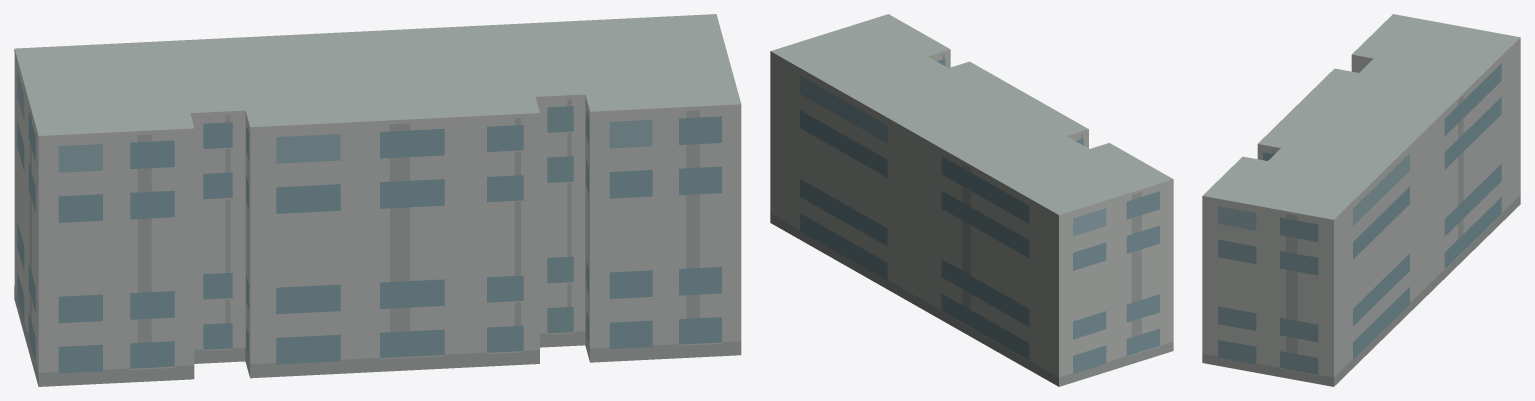
Rendered from residential-a6c48e17-36c1-4636-8b63-0cf684d1039e.glb.
The picture shows the model from 3 angles, left to right: view 1: azimuth 30°, elevation 25°; view 2: azimuth 150°, elevation 25°; view 3: azimuth 270°, elevation 25°; orthographic projection. The views are drawn at different scales.
Visible parts, largest first — view 1: residential-a6c48e17-36c1-4636-8b63-0cf684d1039e.tmp; view 2: residential-a6c48e17-36c1-4636-8b63-0cf684d1039e.tmp; view 3: residential-a6c48e17-36c1-4636-8b63-0cf684d1039e.tmp.
Part boxes in pixels (x1,y1,x2,y2): residential-a6c48e17-36c1-4636-8b63-0cf684d1039e.tmp: (14,14,741,386); residential-a6c48e17-36c1-4636-8b63-0cf684d1039e.tmp: (770,14,1173,386); residential-a6c48e17-36c1-4636-8b63-0cf684d1039e.tmp: (1202,14,1520,386).
Size of the model in its own units: 40.3 by 15.25 by 26.33.
